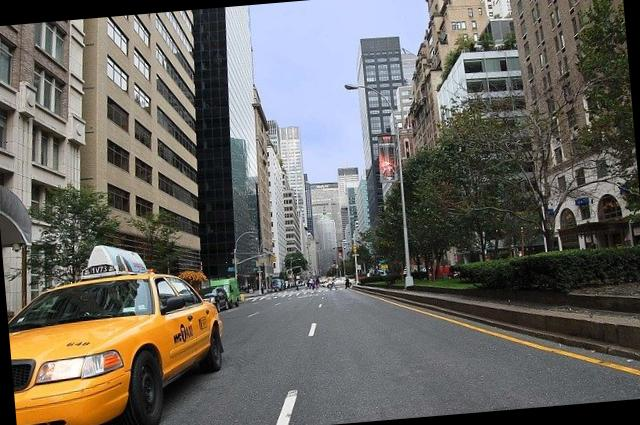taxi: (1, 267, 234, 424)
